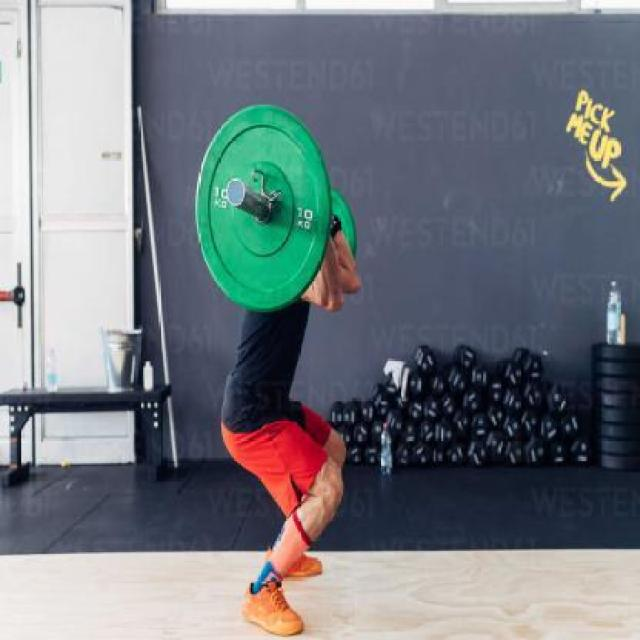barbell: (192, 99, 337, 315)
